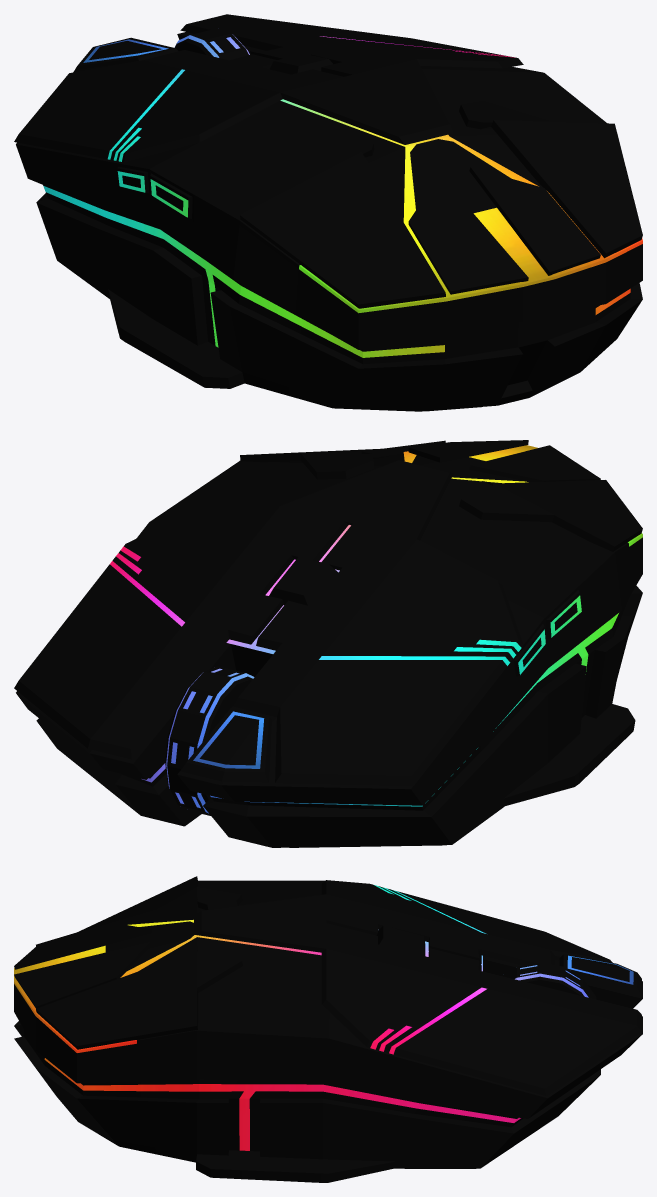
The model's file is mouse-hero.glb.
3 renders of one model, top to bottom at view 1: azimuth 30°, elevation 25°; view 2: azimuth 150°, elevation 25°; view 3: azimuth 270°, elevation 25°, orthographic. The views are drawn at different scales.
Visible parts, largest first — view 1: Object_6, Object_4, Object_5; view 2: Object_4, Object_6, Object_5; view 3: Object_6, Object_4, Object_5.
Boxes of the visible parts, x1=… form: Object_6: x1=16, y1=32, x2=642, y2=411; Object_4: x1=14, y1=14, x2=642, y2=411; Object_5: x1=43, y1=34, x2=642, y2=357; Object_4: x1=14, y1=440, x2=642, y2=847; Object_6: x1=16, y1=452, x2=642, y2=847; Object_5: x1=110, y1=445, x2=642, y2=813; Object_6: x1=14, y1=880, x2=642, y2=1182; Object_4: x1=14, y1=876, x2=641, y2=1168; Object_5: x1=14, y1=885, x2=633, y2=1150.
Size of the model in its own units: 0.0818 by 0.0362 by 0.1196.
3 materials, 1 textured.
